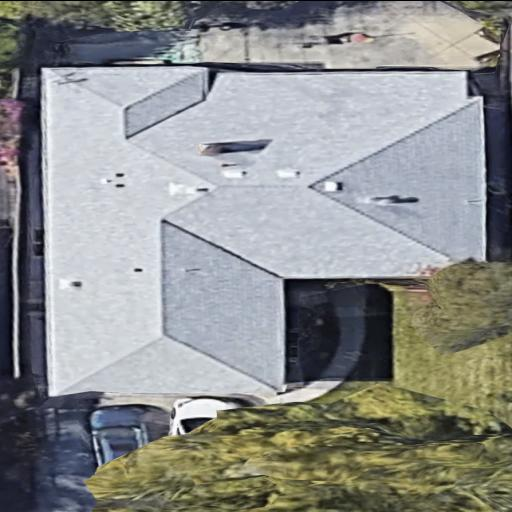Slope-Roof: (37, 66, 485, 397)
